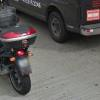Motorcycle: (1, 10, 42, 100)
